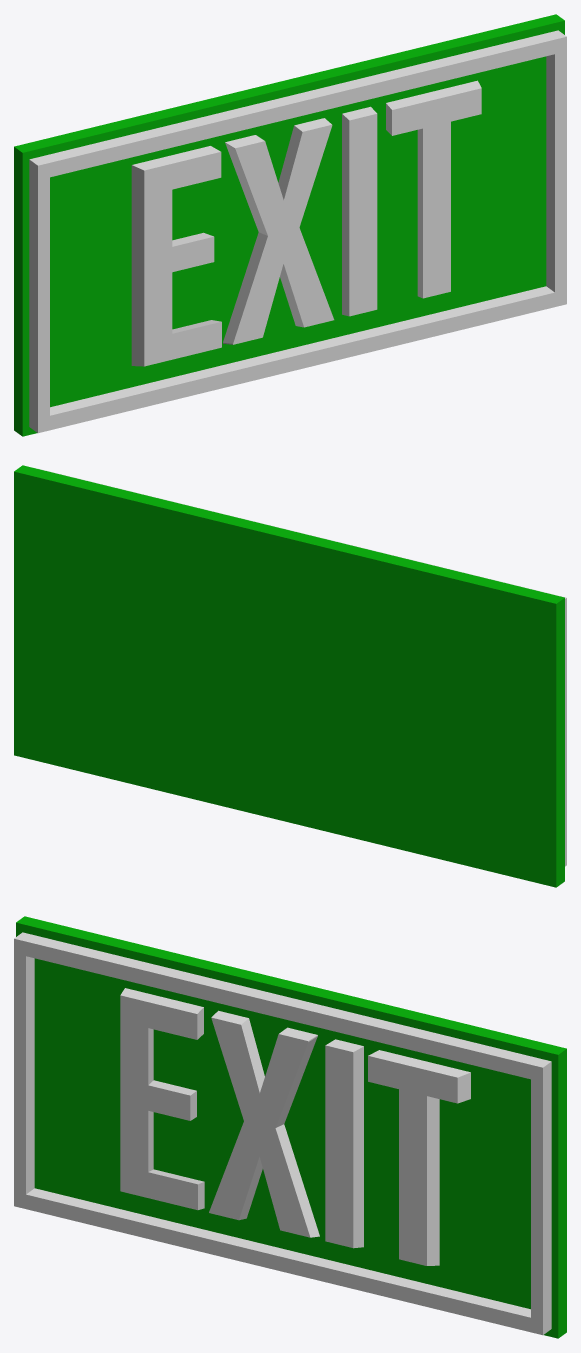
The model's file is ExitSign.fbx.
3 views of the same model, one above another, from view 1: azimuth 30°, elevation 25°; view 2: azimuth 150°, elevation 25°; view 3: azimuth 330°, elevation 25° (orthographic).
Parts seen in each view (by area): view 1: ExitSign; view 2: ExitSign; view 3: ExitSign.
Boxes of the visible parts, box(x1,y1,x2,y2) form: ExitSign: box(14, 14, 566, 436); ExitSign: box(14, 465, 566, 887); ExitSign: box(14, 916, 566, 1338).
Size of the model in its own units: 36.19 by 18.1 by 2.
